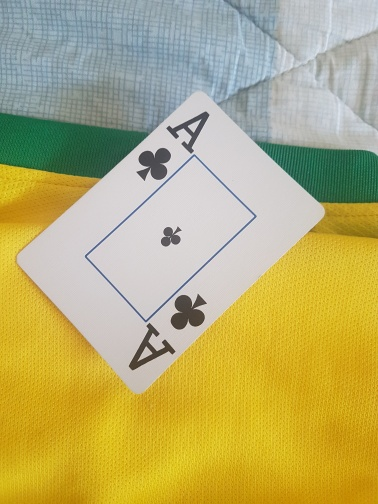ace: (15, 96, 324, 394)
